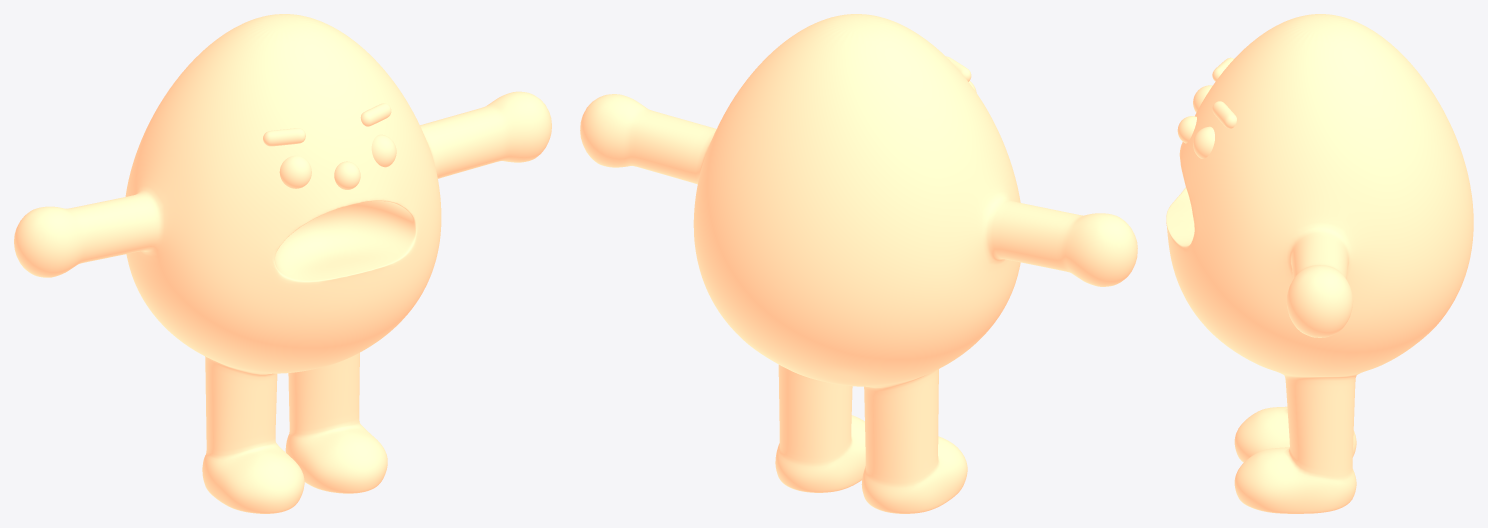
File: eggGlow.glb
The picture shows the model from 3 angles, left to right: view 1: azimuth 30°, elevation 25°; view 2: azimuth 150°, elevation 25°; view 3: azimuth 270°, elevation 25°; orthographic projection. The views are drawn at different scales.
Visible parts, largest first — view 1: COMPLETE egg; view 2: COMPLETE egg; view 3: COMPLETE egg.
Boxes of the visible parts, <box> form: COMPLETE egg: <box>14,14,551,513</box>; COMPLETE egg: <box>580,14,1137,513</box>; COMPLETE egg: <box>1166,14,1473,513</box>.
Size of the model in its own units: 4.15 by 3.38 by 2.07.
